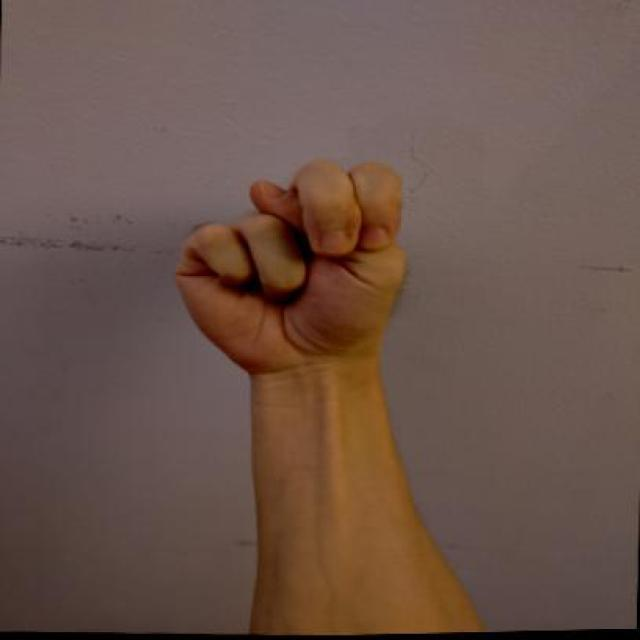N: (156, 154, 455, 414)
